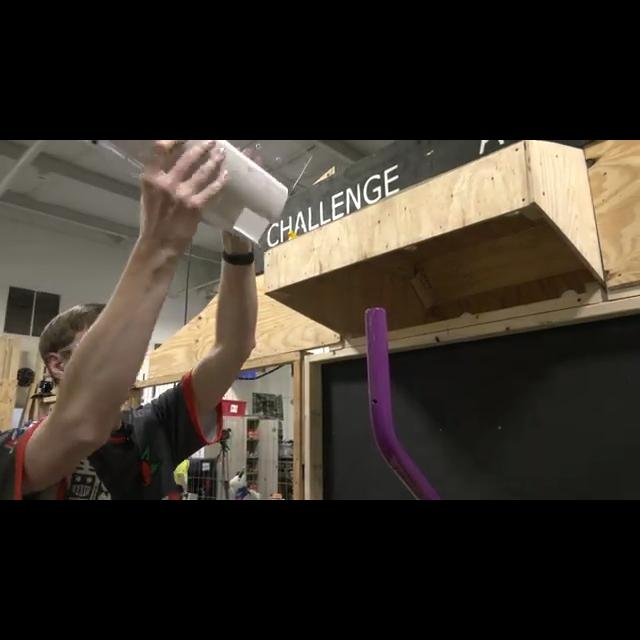CORAL: (160, 140, 288, 244)
